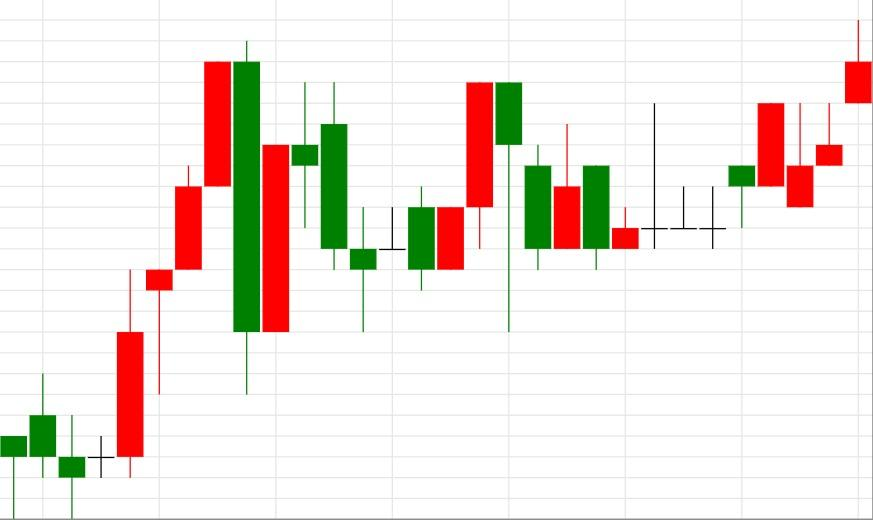bearish_engulfing_fall: (58, 40, 261, 519)
hanging_man_fall: (349, 82, 523, 332)
